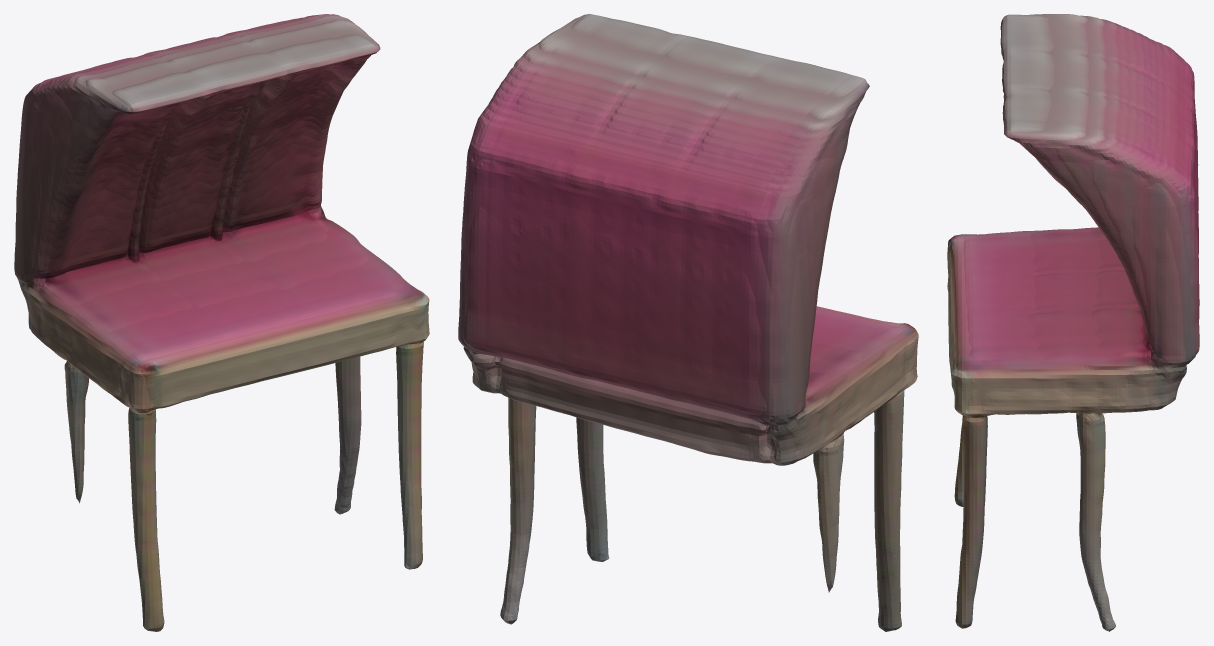
Rendered from chair_velvet.glb.
3 views of the same model, side by side, from view 1: azimuth 30°, elevation 25°; view 2: azimuth 150°, elevation 25°; view 3: azimuth 270°, elevation 25° (orthographic). The views are drawn at different scales.
Visible parts, largest first — view 1: geometry_0; view 2: geometry_0; view 3: geometry_0.
Part boxes in pixels (left/top/right/bottom): geometry_0: left=14, top=14, right=429, bottom=631; geometry_0: left=458, top=14, right=918, bottom=631; geometry_0: left=947, top=14, right=1199, bottom=631.
Size of the model in its own units: 0.6252 by 1 by 0.4633.
